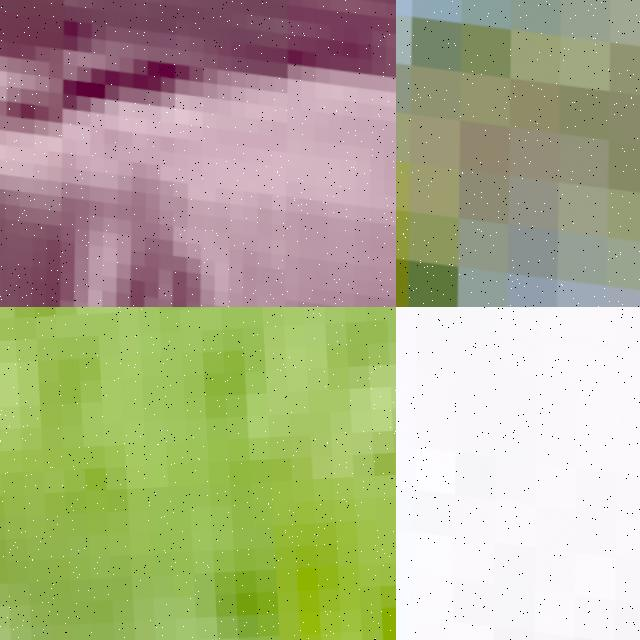0: (0, 0, 396, 307), (396, 0, 640, 307)
drone: (396, 307, 640, 640)
